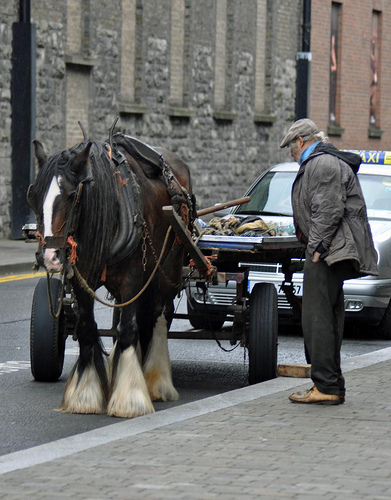horse: (26, 125, 213, 422)
